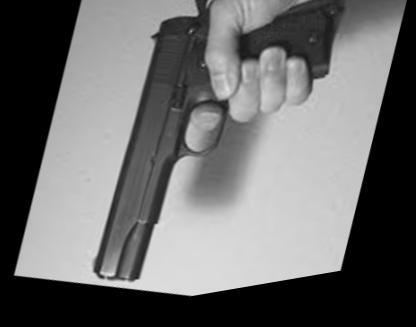pistol: (70, 0, 356, 316)
